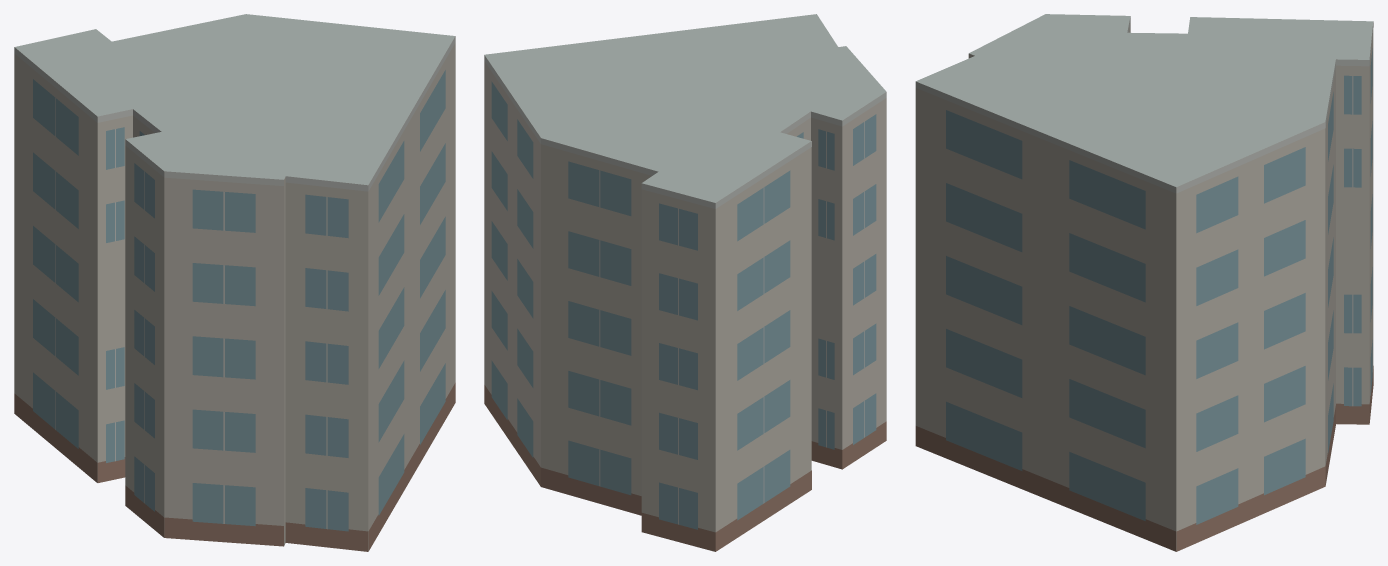
Rendered from survey-upis-32995948.glb.
The picture shows the model from 3 angles, left to right: view 1: azimuth 30°, elevation 25°; view 2: azimuth 150°, elevation 25°; view 3: azimuth 270°, elevation 25°; orthographic projection. The views are drawn at different scales.
Visible parts, largest first — view 1: survey-upis-32995948.tmp; view 2: survey-upis-32995948.tmp; view 3: survey-upis-32995948.tmp.
Part boxes in pixels (left/top/right/bottom): survey-upis-32995948.tmp: left=14, top=14, right=455, bottom=551; survey-upis-32995948.tmp: left=484, top=14, right=886, bottom=551; survey-upis-32995948.tmp: left=915, top=14, right=1373, bottom=551.
Bounding box in the file's own units: 14.38 × 14.1 × 16.05.
